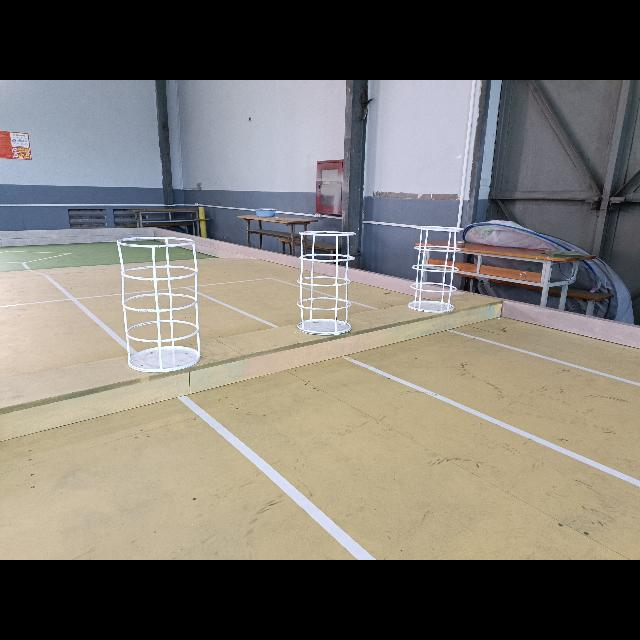S: (117, 237, 201, 372), (299, 231, 354, 335), (410, 224, 460, 313)
